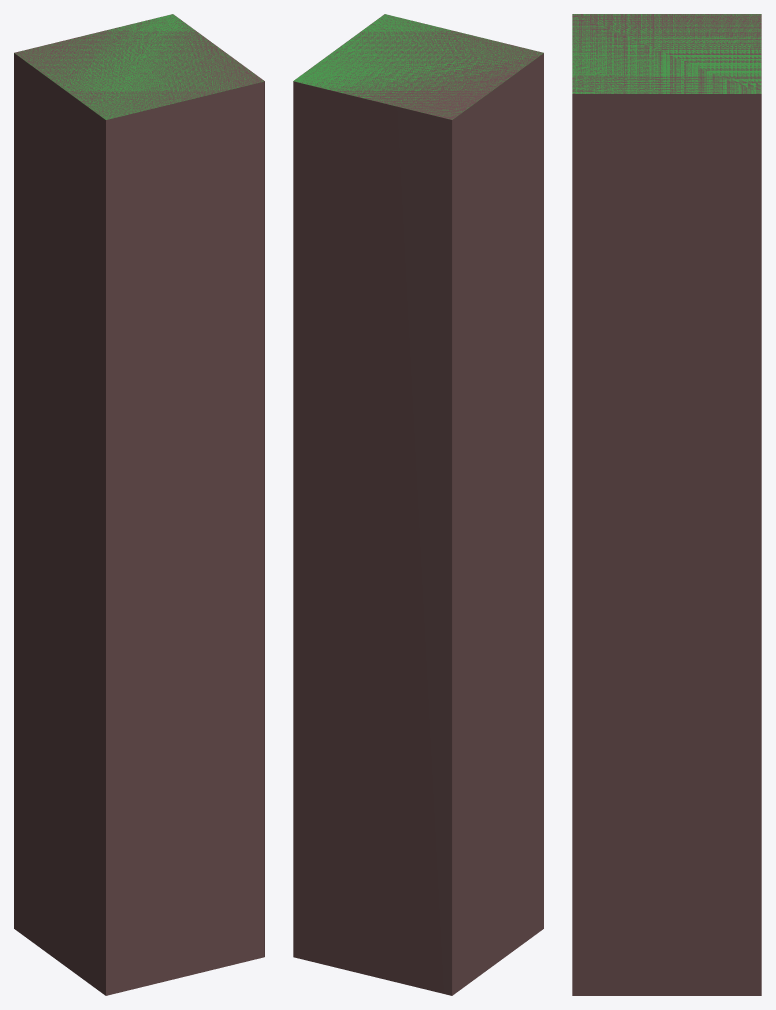
Rendered from Cubes_ground.fbx.
3 views of the same model, side by side, from view 1: azimuth 30°, elevation 25°; view 2: azimuth 150°, elevation 25°; view 3: azimuth 270°, elevation 25° (orthographic). The views are drawn at different scales.
Visible parts, largest first — view 1: cube_full, cube_cut, cube_plane; view 2: cube_full, cube_cut, cube_plane; view 3: cube_full, cube_plane.
Boxes of the visible parts, box(x1,y1,x2,y2) form: cube_full: box(14, 14, 264, 995); cube_cut: box(14, 53, 264, 994); cube_plane: box(14, 14, 264, 119); cube_full: box(293, 14, 543, 995); cube_cut: box(452, 53, 543, 994); cube_plane: box(294, 14, 543, 119); cube_full: box(572, 14, 761, 995); cube_plane: box(572, 14, 761, 93).
Size of the model in its own units: 500 by 2632 by 500.
